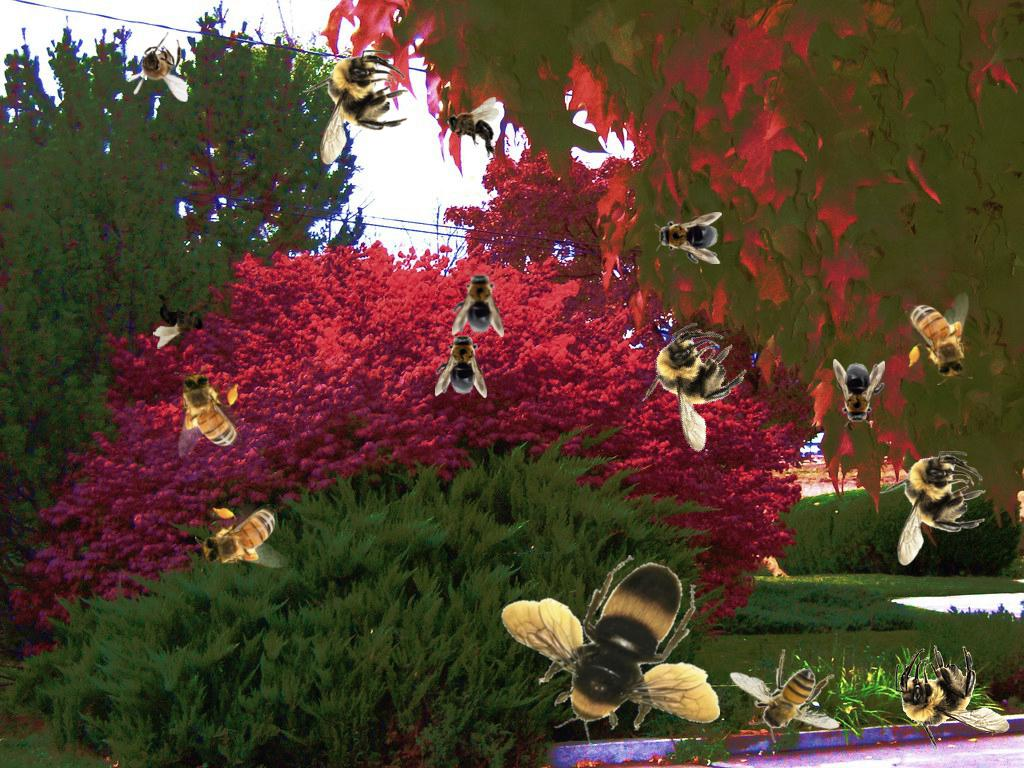Bee: (500, 555, 720, 746), (620, 310, 771, 465), (302, 50, 409, 165), (895, 645, 1010, 752), (879, 451, 986, 566), (729, 649, 840, 743), (174, 366, 242, 459), (195, 504, 288, 572), (905, 292, 973, 385), (127, 32, 188, 102), (833, 359, 885, 427), (654, 212, 722, 264), (435, 330, 487, 398), (452, 269, 504, 337), (153, 287, 206, 349), (446, 97, 499, 159)
